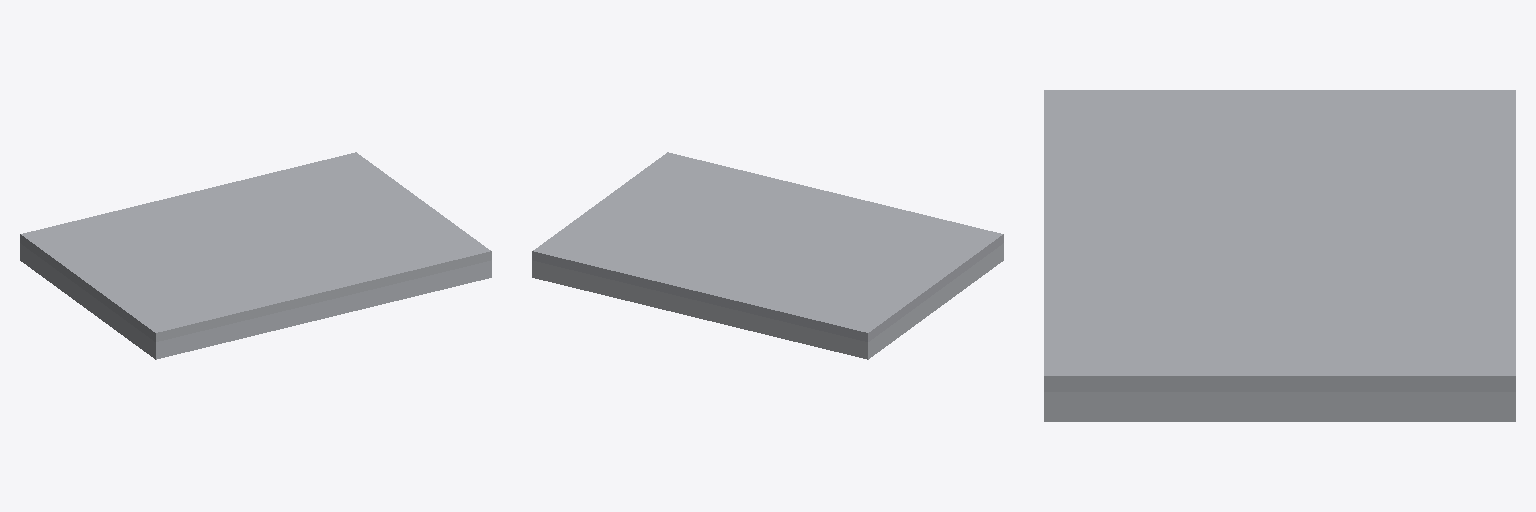
robot.urdf — macbook_laptop:
<robot name="macbook_laptop">
  <!-- Base / keyboard half: width X=0.304m, depth Y=0.212m, thickness Z=0.015m -->
  <link name="base_link">
    <inertial>
      <origin xyz="0 0 0" rpy="0 0 0"/>
      <mass value="0.9"/>
      <inertia ixx="0.0033877" ixy="0" ixz="0" iyy="0.006948" iyz="0" izz="0.010302"/>
    </inertial>
    <visual>
      <origin xyz="0 0 0" rpy="0 0 0"/>
      <geometry>
        <box size="0.304 0.212 0.015"/>
      </geometry>
      <material name="silver">
        <color rgba="0.75 0.76 0.78 1.0"/>
      </material>
    </visual>
    <collision>
      <origin xyz="0 0 0" rpy="0 0 0"/>
      <geometry>
        <box size="0.304 0.212 0.015"/>
      </geometry>
    </collision>
  </link>

  <!-- Display / lid half: same footprint, thinner -->
  <link name="display_link">
    <inertial>
      <origin xyz="0 0.106 0.004" rpy="0 0 0"/>
      <mass value="0.5"/>
      <inertia ixx="0.0018753" ixy="0" ixz="0" iyy="0.0038533" iyz="0" izz="0.0057233"/>
    </inertial>
    <visual>
      <origin xyz="0 0.106 0.004" rpy="0 0 0"/>
      <geometry>
        <box size="0.304 0.212 0.008"/>
      </geometry>
      <material name="silver">
        <color rgba="0.72 0.73 0.75 1.0"/>
      </material>
    </visual>
    <collision>
      <origin xyz="0 0.106 0.004" rpy="0 0 0"/>
      <geometry>
        <box size="0.304 0.212 0.008"/>
      </geometry>
    </collision>
  </link>

  <!-- Hinge at rear top edge of base. 0 = closed flat, ~1.57 = 90deg open, 1.92 = ~110deg max open -->
  <joint name="lid_hinge" type="revolute">
    <parent link="base_link"/>
    <child link="display_link"/>
    <origin xyz="0 -0.106 0.0075" rpy="0 0 0"/>
    <axis xyz="1 0 0"/>
    <limit lower="0" upper="1.92" effort="10" velocity="3.0"/>
    <dynamics damping="0.15" friction="0.1"/>
  </joint>
</robot>

--- Facts derived from the render (not from the file) ---
3 views of the same robot in one strip: view 1: azimuth 30°, elevation 25°; view 2: azimuth 150°, elevation 25°; view 3: azimuth 270°, elevation 25° (orthographic).
Model macbook_laptop with 2 links and 1 joints (1 revolute), rooted at base_link, posed all joints at 0.
Visible links, largest first — view 1: display_link, base_link; view 2: display_link, base_link; view 3: display_link, base_link.
Boxes of the visible links, <box> form: display_link: <box>20,152,491,341</box>; base_link: <box>20,243,491,359</box>; display_link: <box>532,152,1003,341</box>; base_link: <box>532,243,1003,359</box>; display_link: <box>1044,90,1515,391</box>; base_link: <box>1044,392,1515,421</box>.
Bounding box of the posed robot: 0.304 × 0.212 × 0.023 m (x, y, z).
Geometry: primitives only (box / cylinder / sphere), no mesh files.
